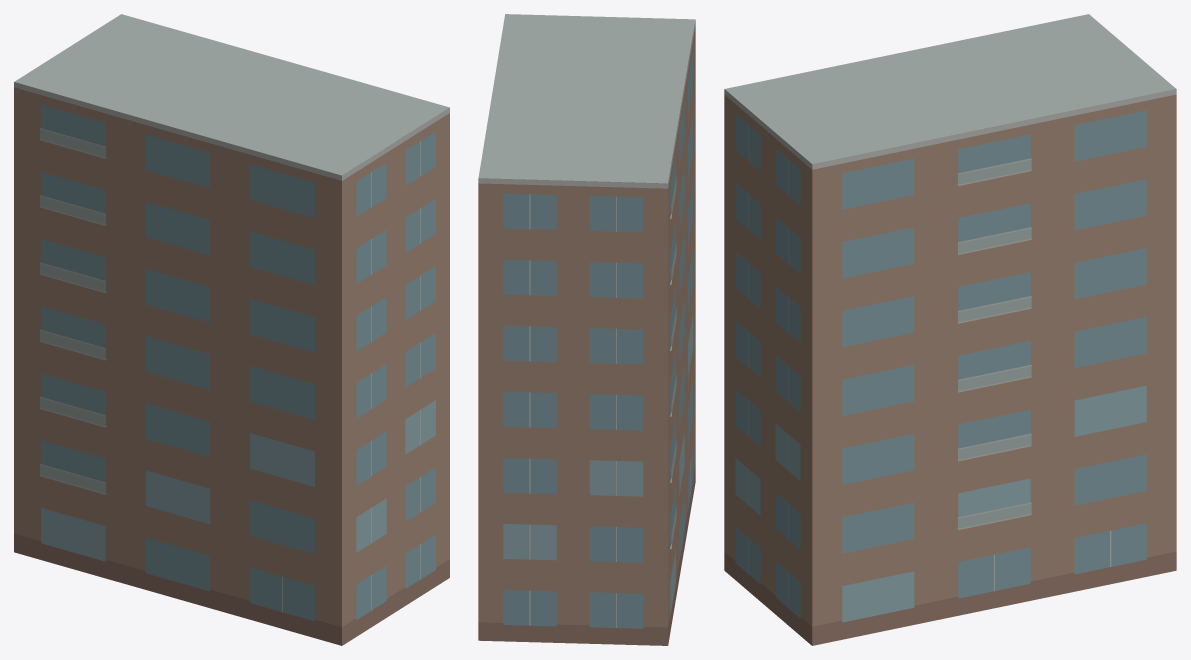
Rendered from survey-upis-33016206.glb.
The picture shows the model from 3 angles, left to right: view 1: azimuth 30°, elevation 25°; view 2: azimuth 150°, elevation 25°; view 3: azimuth 270°, elevation 25°; orthographic projection. The views are drawn at different scales.
Parts seen in each view (by area): view 1: survey-upis-33016206.tmp; view 2: survey-upis-33016206.tmp; view 3: survey-upis-33016206.tmp.
Boxes of the visible parts, x1,y1,x2,y2 form: survey-upis-33016206.tmp: (14,14,449,645); survey-upis-33016206.tmp: (478,14,695,645); survey-upis-33016206.tmp: (724,14,1176,645).
Size of the model in its own units: 14.29 by 21.35 by 18.17.
